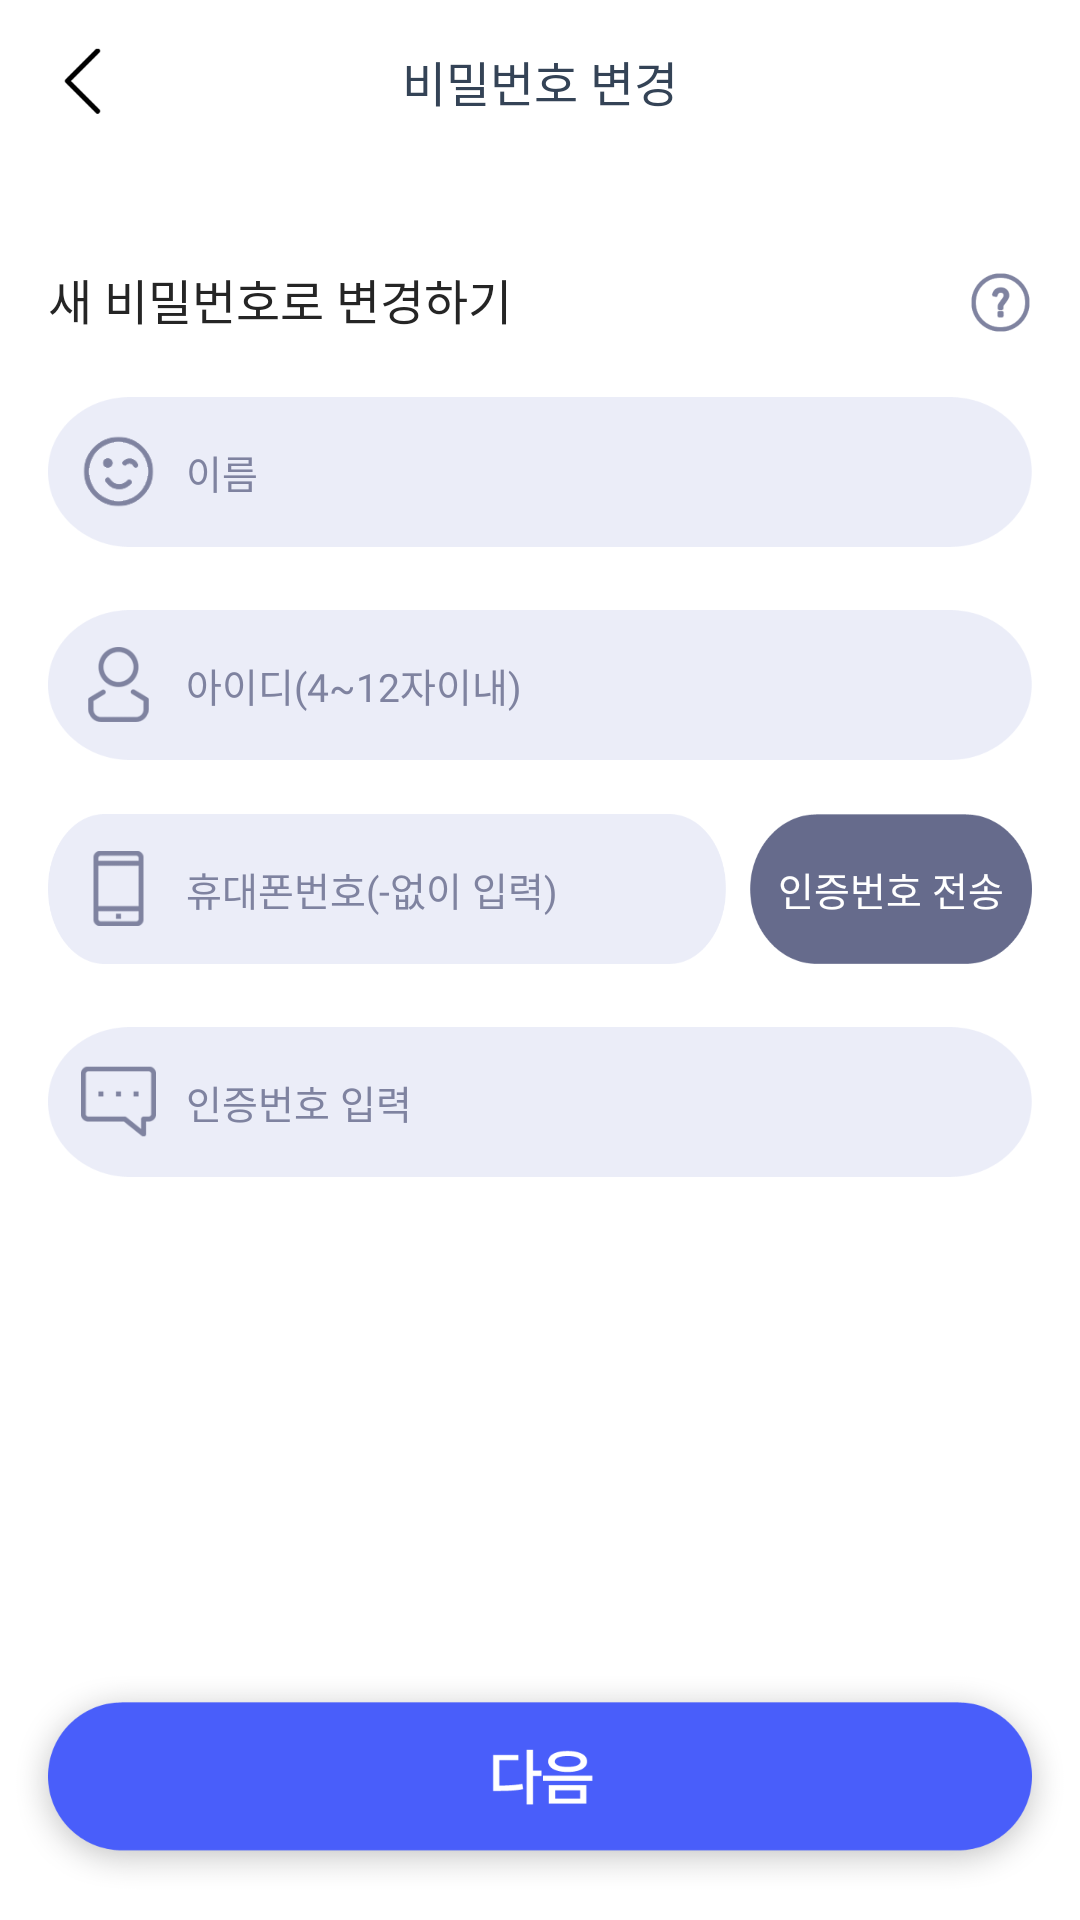

Named icons in this screenshot (1080 × 1920) and their centers, [x,y]:
help: [1000,302]
mobile: [118,888]
person: [118,684]
top back: [82,81]
